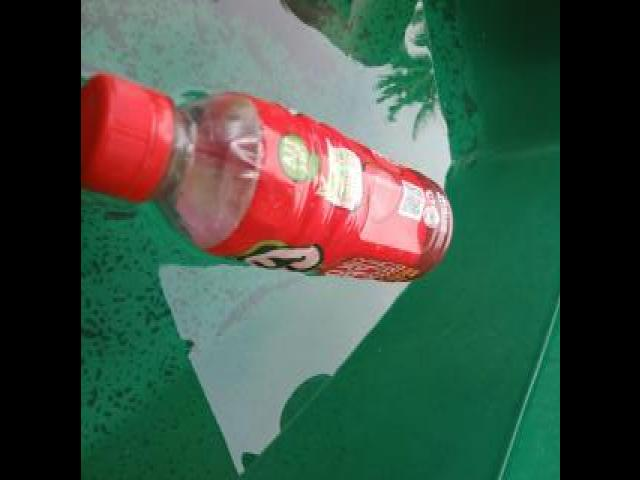Bottle: (80, 60, 458, 290)
